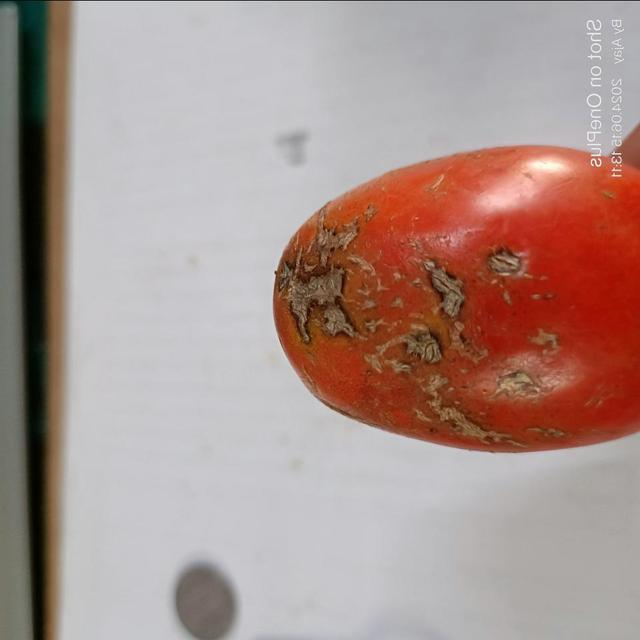Bacterial Spot Fruit: (26, 29, 335, 232)
